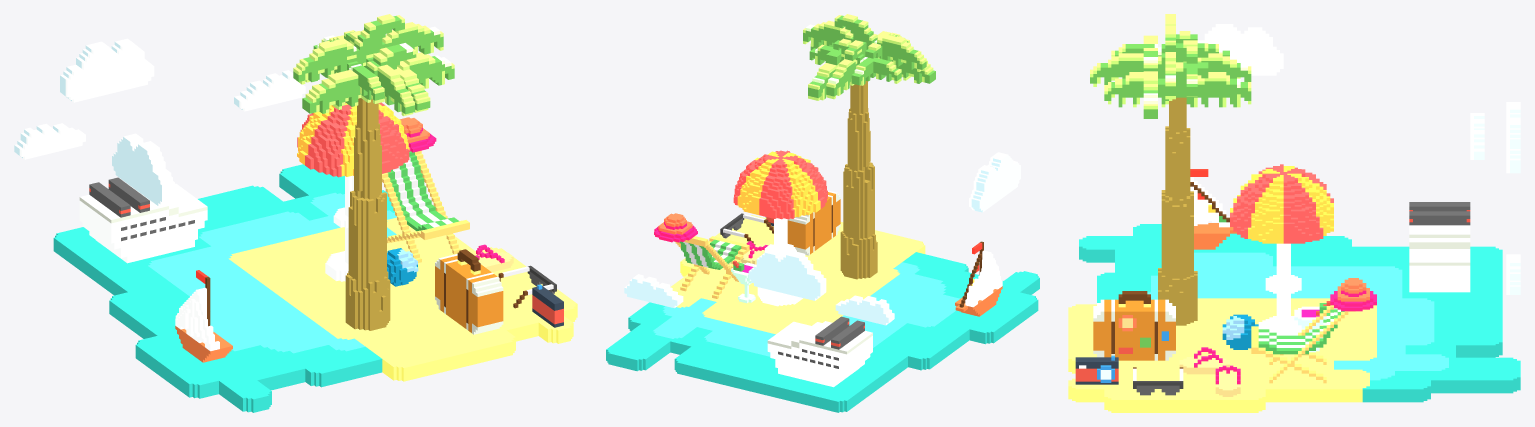
Rendered from beach.glb.
The picture shows the model from 3 angles, left to right: view 1: azimuth 30°, elevation 25°; view 2: azimuth 150°, elevation 25°; view 3: azimuth 270°, elevation 25°; orthographic projection. The views are drawn at different scales.
Visible parts, largest first — view 1: Object_2; view 2: Object_2; view 3: Object_2.
Boxes of the visible parts, bbox=[...] form: Object_2: bbox=[14, 14, 577, 412]; Object_2: bbox=[606, 14, 1039, 412]; Object_2: bbox=[1068, 14, 1520, 412].
Size of what is drawn, in the model's own units: 3.9 by 3.13 by 4.2.
Materials: 1 (1 with a texture image).
